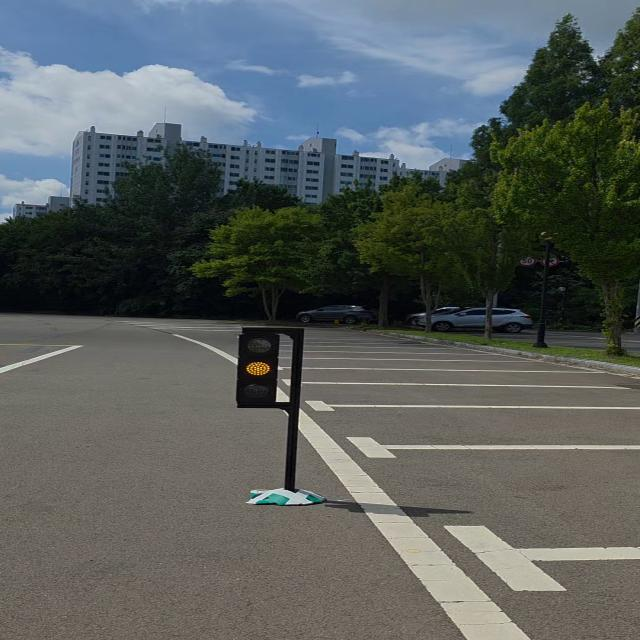yellow: (234, 323, 282, 412)
